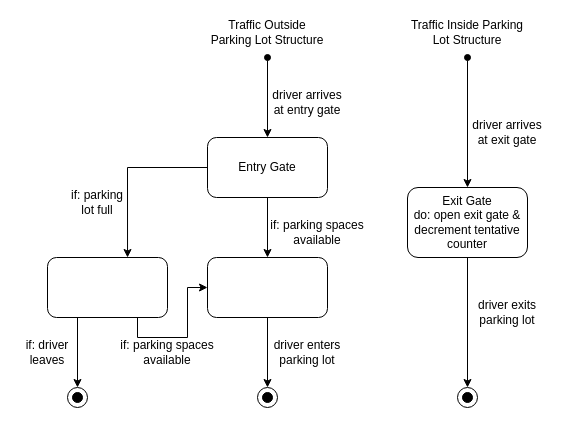
This 564x425 diagram has some shape labels left out. The shapes that lost their labels are listed below. From the top down, each one's centre as x and y in pixels, then its label:
At (107,287): "do: keep entry gate closed".
At (267,287): "do: open entry gate & increment tentative counter".
